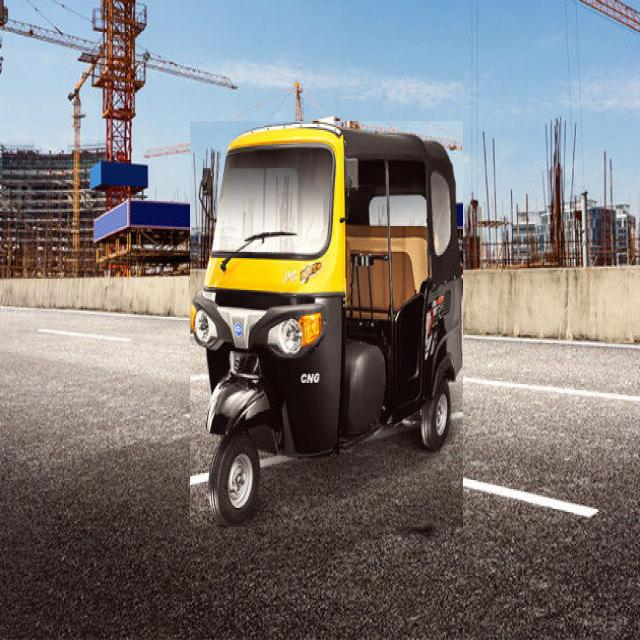autorickshaw: (190, 122, 463, 527)
